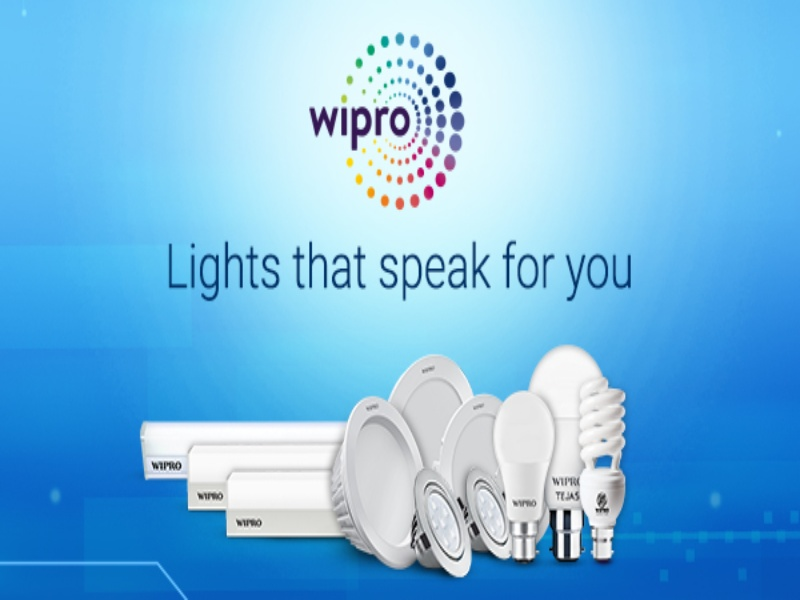wipro: (309, 28, 467, 210)
